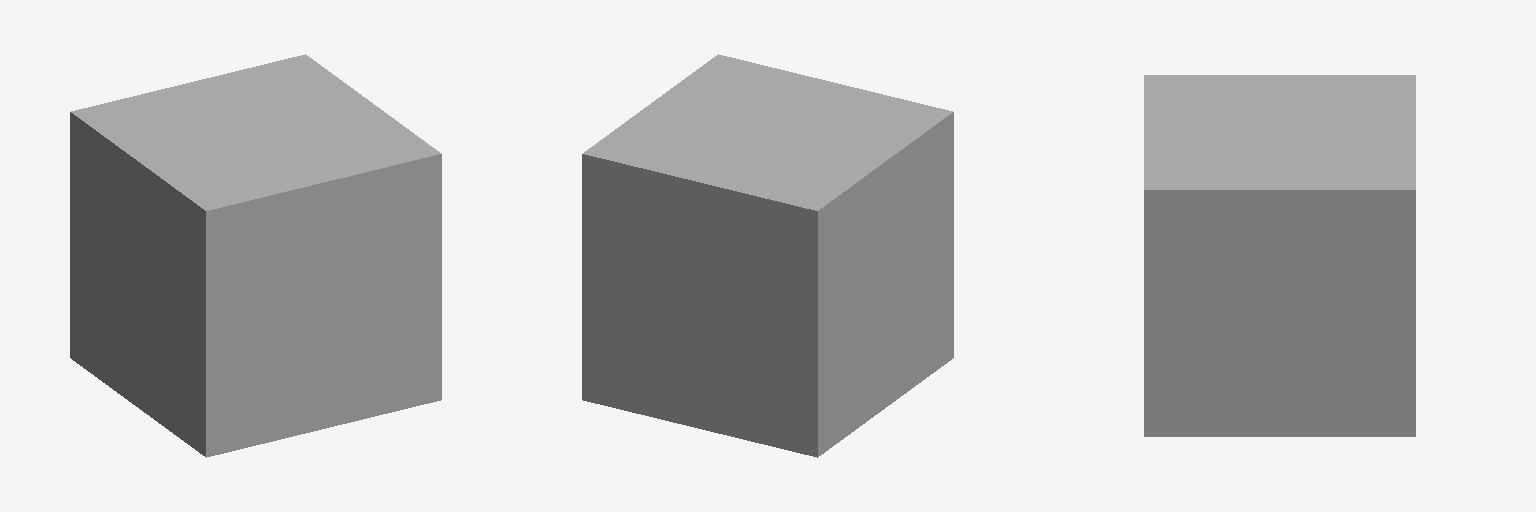
3 renders of one model, left to right at view 1: azimuth 30°, elevation 25°; view 2: azimuth 150°, elevation 25°; view 3: azimuth 270°, elevation 25°, orthographic.
Bounding box in the file's own units: 50 × 50 × 50.
Materials: 1 (1 with a texture image).